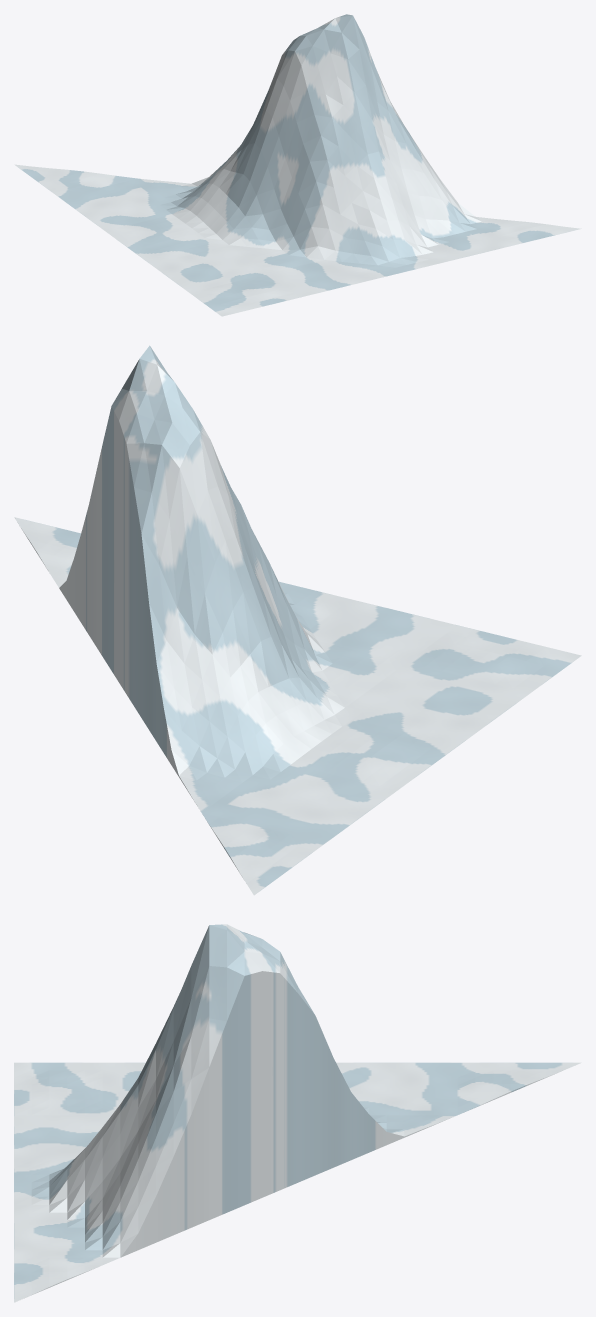
File: Snow_Mountains_08_NW.obj
The picture shows the model from 3 angles, top to bottom: view 1: azimuth 30°, elevation 25°; view 2: azimuth 150°, elevation 25°; view 3: azimuth 270°, elevation 25°; orthographic projection. The views are drawn at different scales.
Bounding box in the file's own units: 10 × 5.3 × 10.
1 material, 1 textured.
